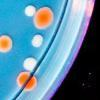orange: (32, 5, 55, 31), (15, 71, 38, 92), (0, 32, 14, 55)
white: (21, 55, 40, 74), (28, 32, 45, 49), (24, 5, 37, 18)
